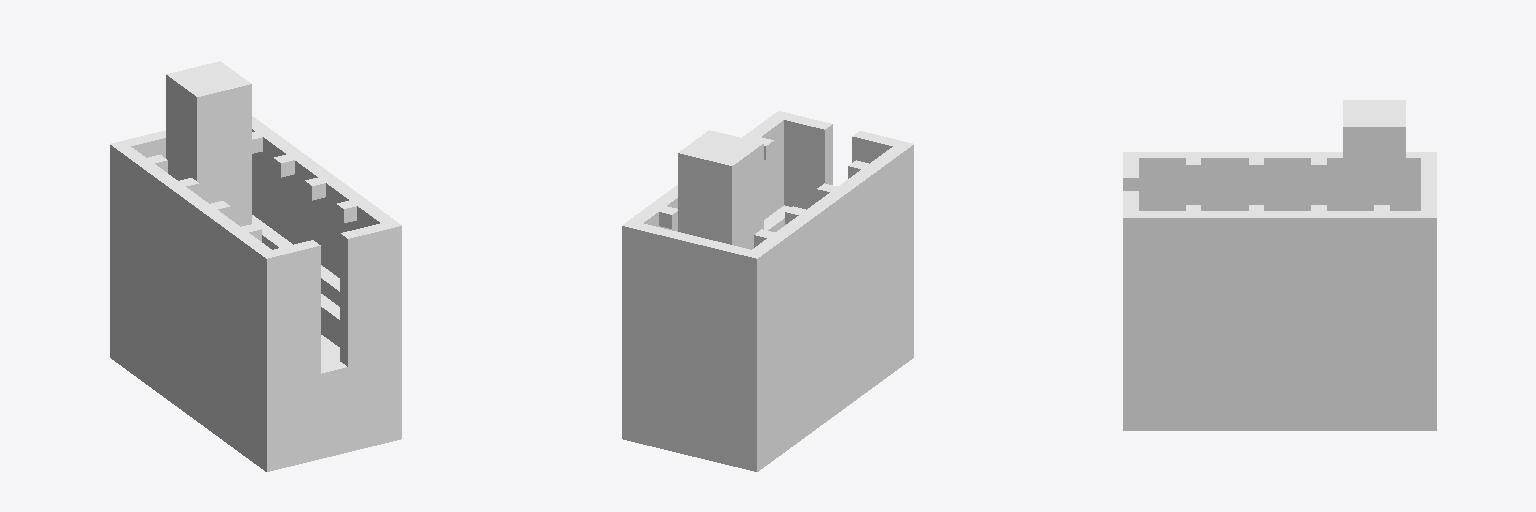
The model's file is survival_levelup.obj.
3 views of the same model, side by side, from view 1: azimuth 30°, elevation 25°; view 2: azimuth 150°, elevation 25°; view 3: azimuth 270°, elevation 25° (orthographic).
Bounding box in the file's own units: 10 × 20 × 20.